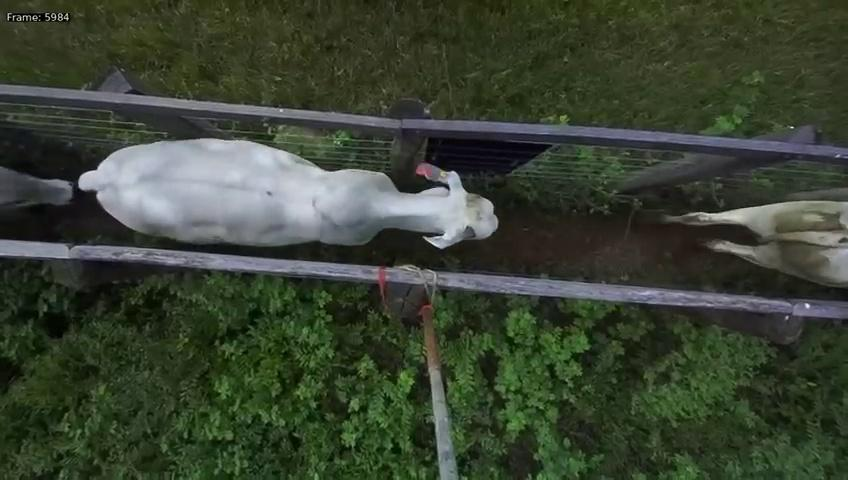cattle: (75, 131, 501, 251)
